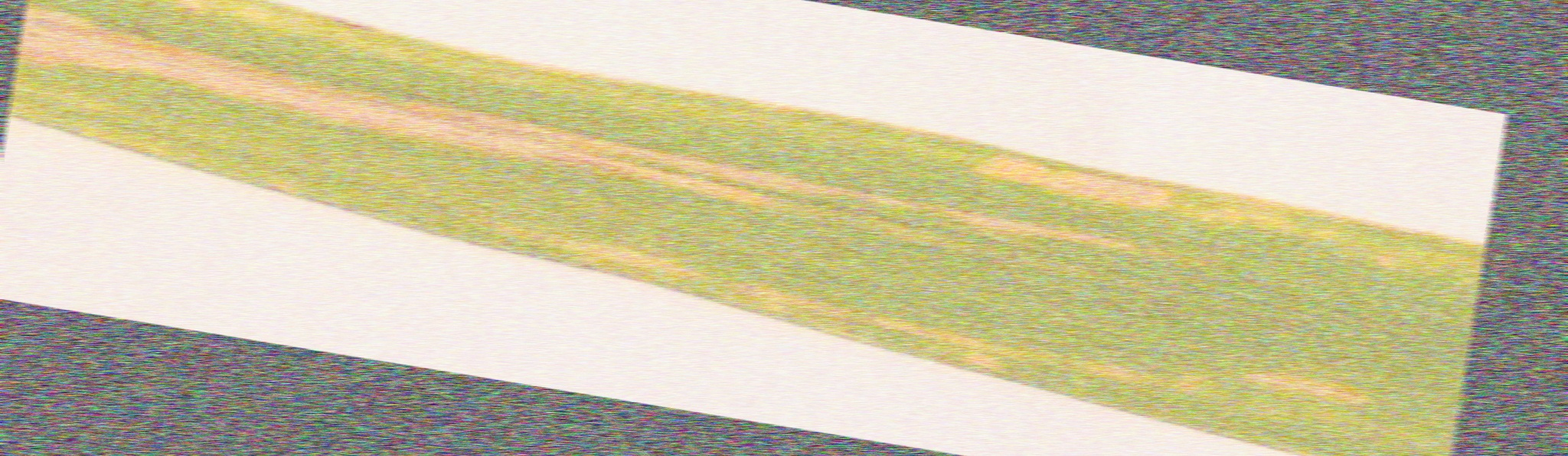Leaf_Blast: (0, 44, 1457, 313)
